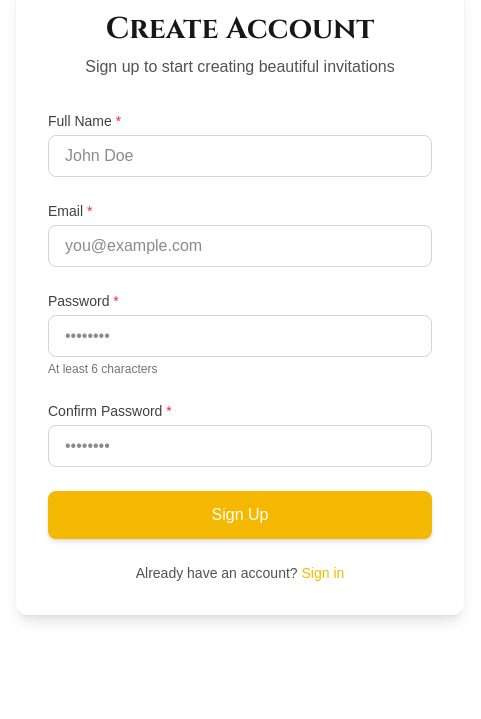
SignupForm › validates password match
Expected: the button is enabled, [48,491,432,539]
Type "Test User" into the field labelled "Full Name *" at (240, 156), box [48,135,432,177]
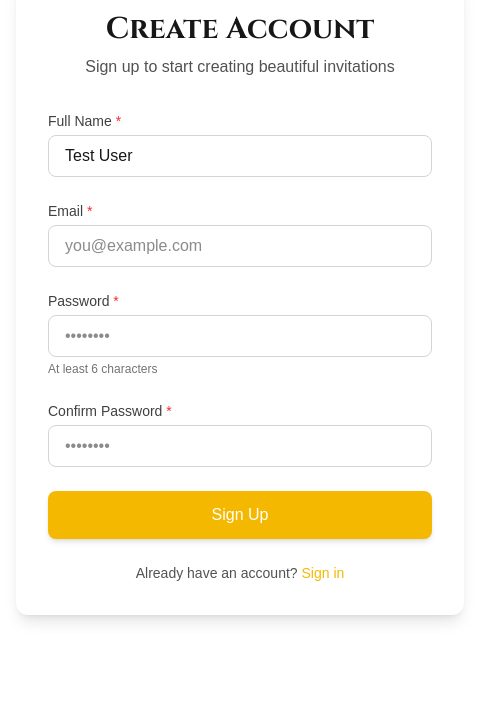
Type "test@example.com" into the field labelled "Email *" at (240, 246), box [48,225,432,267]
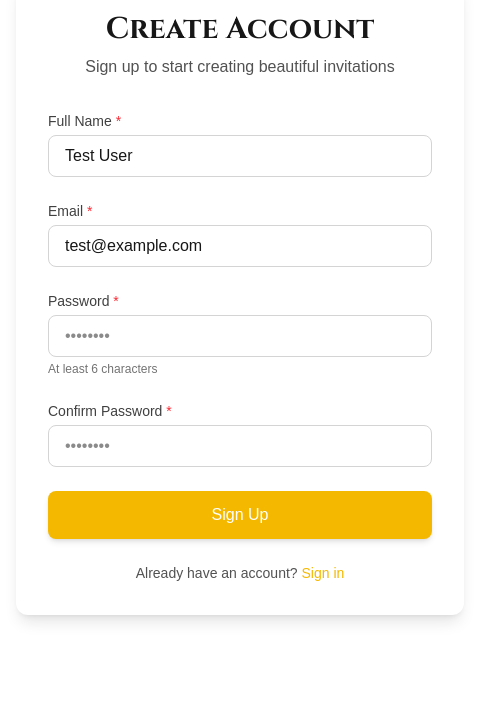
Type "password123" into the password field labelled "Password *" at (240, 336), box [48,315,432,357]
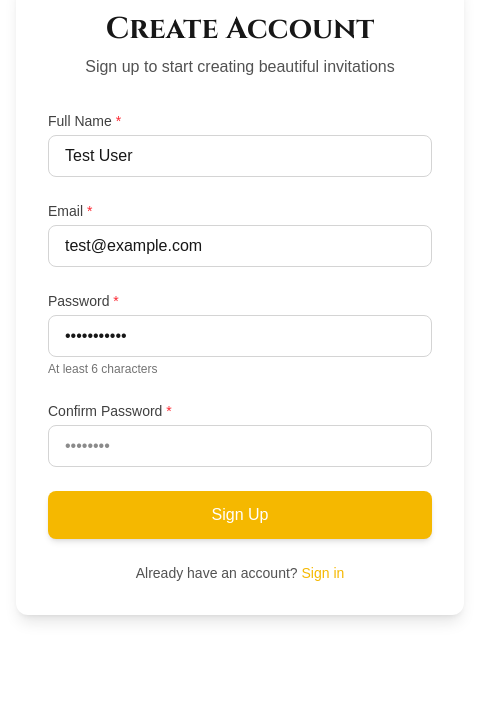
Type "password456" into the password field labelled "Confirm Password *" at (240, 446), box [48,425,432,467]
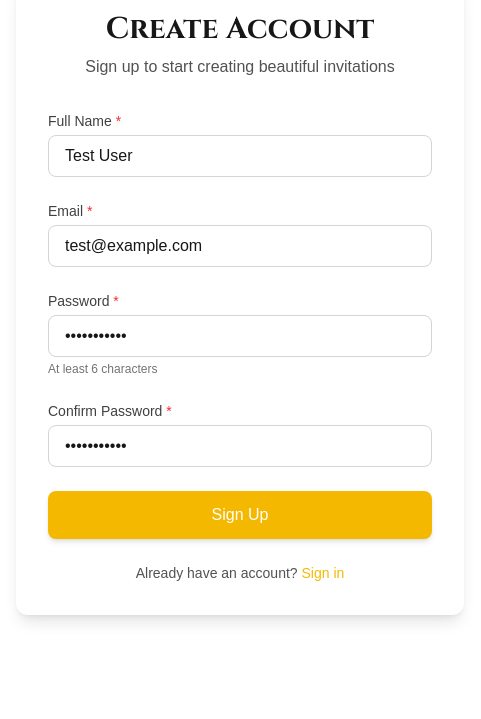
Click the button "Sign Up" at (240, 515), box [48,491,432,539]
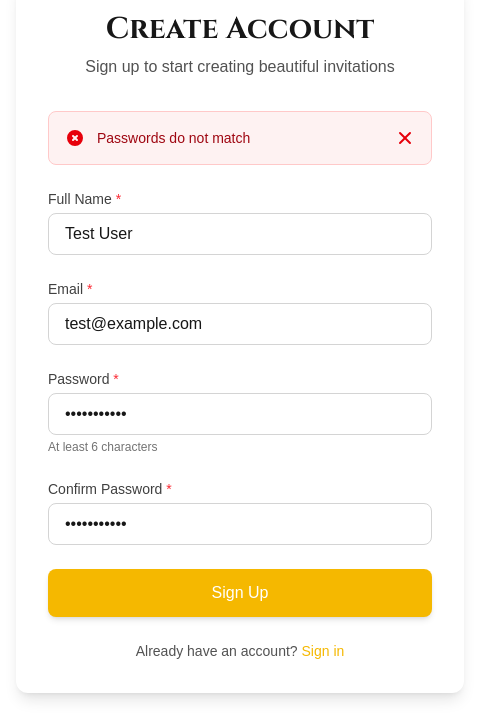
Now the text "Passwords do not match" is shown, box [97,130,250,146]
